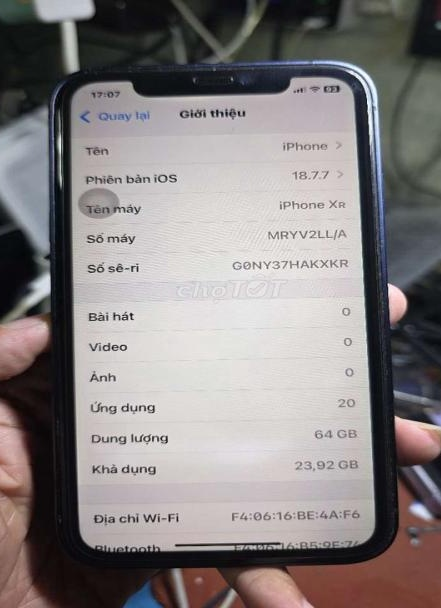scratch: (73, 52, 371, 100)
